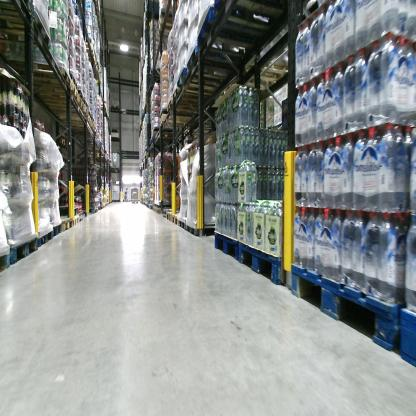pallet: (288, 263, 401, 361), (194, 6, 277, 76), (212, 3, 305, 37), (0, 10, 56, 52), (237, 236, 284, 286), (185, 43, 235, 87), (7, 58, 73, 88), (239, 52, 297, 85), (21, 78, 81, 102), (176, 65, 232, 89), (397, 308, 416, 371), (39, 90, 87, 111), (10, 235, 39, 266), (212, 230, 239, 262), (164, 96, 211, 113), (158, 112, 198, 131), (171, 86, 207, 107), (185, 218, 222, 238), (157, 9, 179, 41), (1, 2, 35, 22), (35, 227, 54, 250), (1, 246, 13, 275), (57, 215, 74, 231), (84, 41, 95, 59), (51, 221, 63, 237), (172, 215, 184, 228), (69, 215, 80, 228), (178, 217, 187, 230), (84, 206, 98, 214), (165, 210, 172, 223), (156, 206, 165, 215), (78, 211, 86, 221), (154, 206, 157, 214)
pallet_truck: (130, 178, 141, 206)
